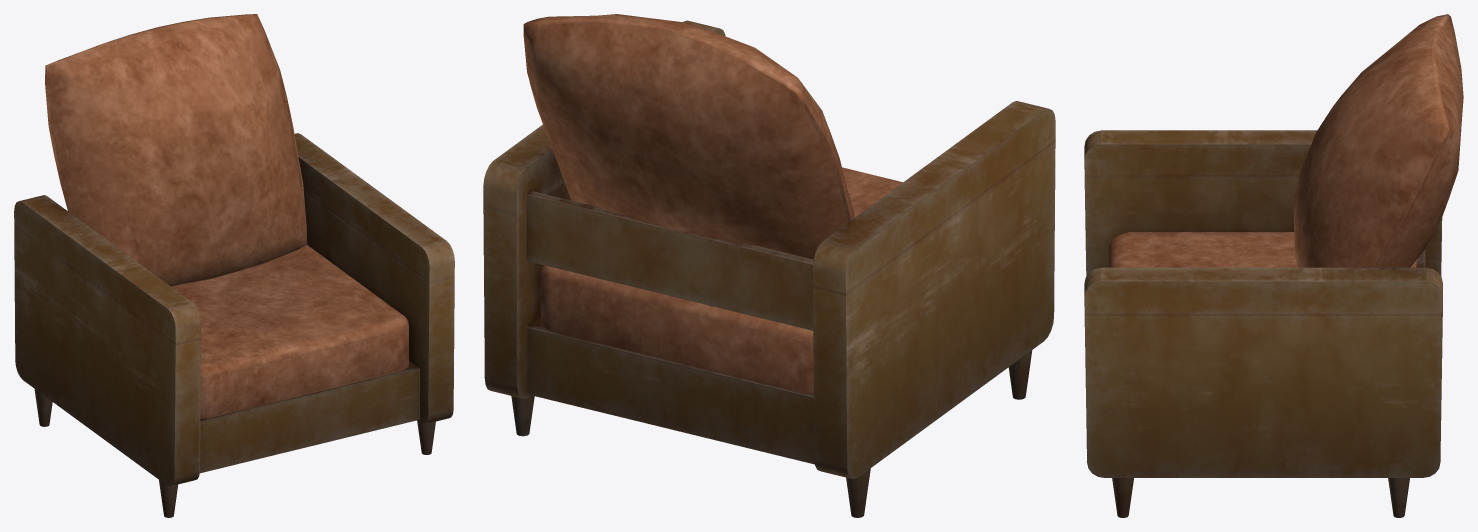
File: sb_obj_indoor038_Singlesofa.fbx
3 views of the same model, side by side, from view 1: azimuth 30°, elevation 25°; view 2: azimuth 150°, elevation 25°; view 3: azimuth 270°, elevation 25° (orthographic). The views are drawn at different scales.
Visible parts, largest first — view 1: sb_obj_indoor038_Singlesofa; view 2: sb_obj_indoor038_Singlesofa; view 3: sb_obj_indoor038_Singlesofa.
Part boxes in pixels (x1,y1,x2,y2): sb_obj_indoor038_Singlesofa: (14,14,454,517); sb_obj_indoor038_Singlesofa: (483,14,1055,517); sb_obj_indoor038_Singlesofa: (1084,14,1463,517).
Bounding box in the file's own units: 0.7937 × 0.9641 × 0.8419.
